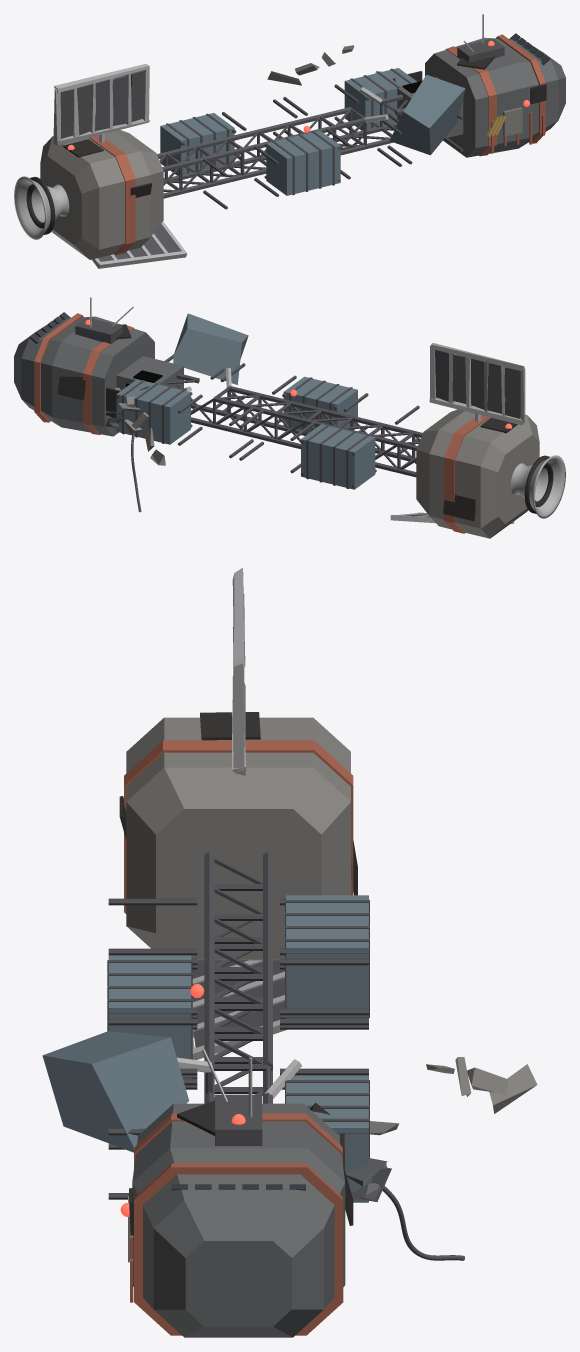
The model's file is Derelict.fbx.
3 renders of one model, top to bottom at view 1: azimuth 30°, elevation 25°; view 2: azimuth 150°, elevation 25°; view 3: azimuth 270°, elevation 25°, orthographic. The views are drawn at different scales.
Visible parts, largest first — view 1: Body; view 2: Body; view 3: Body.
Boxes of the visible parts, <box> form: Body: <box>14,14,565,268</box>; Body: <box>14,297,565,538</box>; Body: <box>42,568,537,1337</box>.
Size of the model in its own units: 1.02 by 0.355 by 0.4186.
